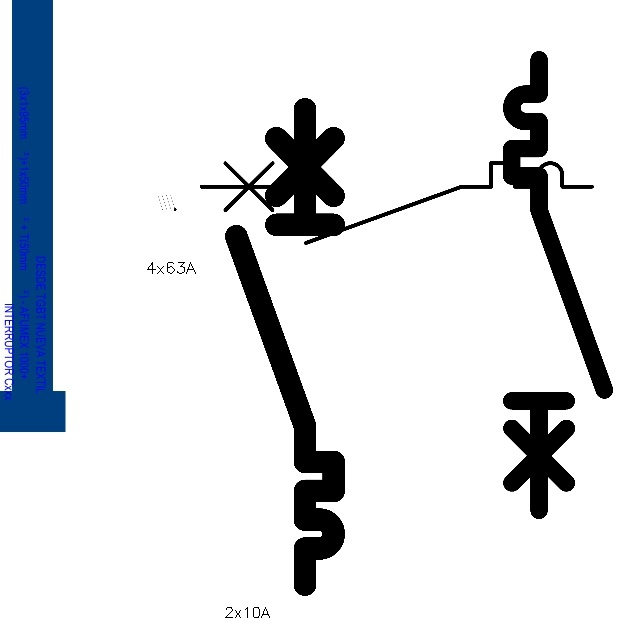interruptor_termomagnetico: (224, 97, 346, 597), (500, 48, 616, 522), (191, 153, 602, 253)
